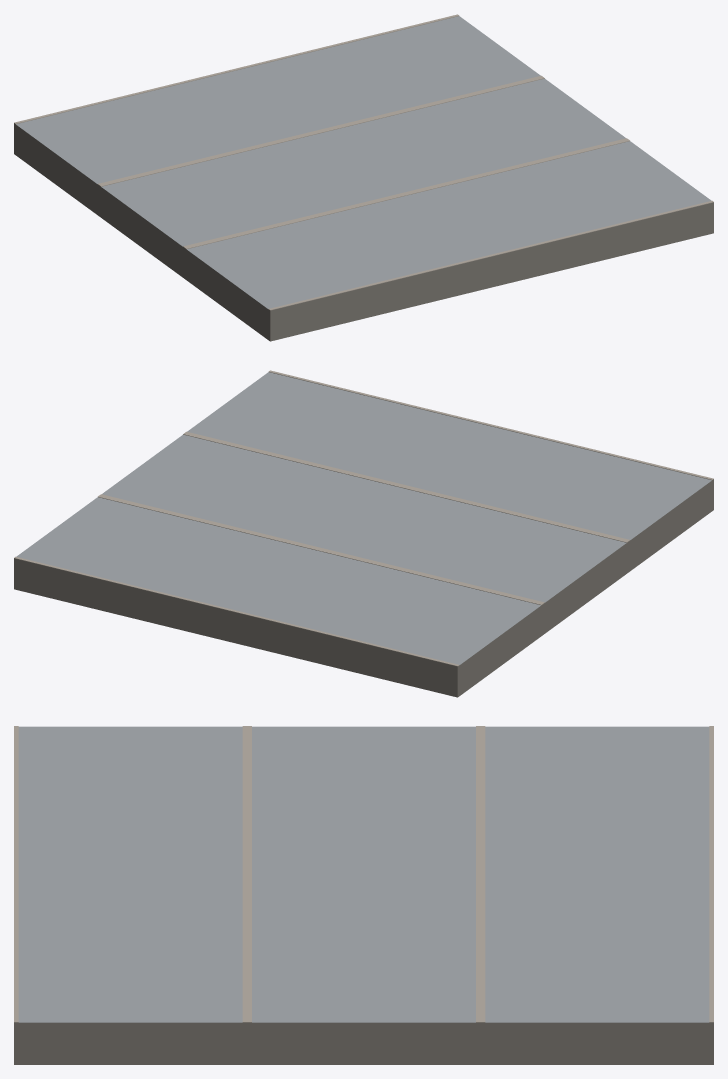
Rendered from SC_Bld_Store_Roof_3x3.gltf.
3 views of the same model, one above another, from view 1: azimuth 30°, elevation 25°; view 2: azimuth 150°, elevation 25°; view 3: azimuth 270°, elevation 25° (orthographic). The views are drawn at different scales.
Parts seen in each view (by area): view 1: SC_Bld_Store_Roof_3x3; view 2: SC_Bld_Store_Roof_3x3; view 3: SC_Bld_Store_Roof_3x3.
Part boxes in pixels (x1=…): SC_Bld_Store_Roof_3x3: x1=14, y1=14, x2=713, y2=341; SC_Bld_Store_Roof_3x3: x1=14, y1=370, x2=713, y2=697; SC_Bld_Store_Roof_3x3: x1=14, y1=726, x2=713, y2=1064.
Bounding box in the file's own units: 3 × 0.203 × 3.
1 material, 1 textured.
